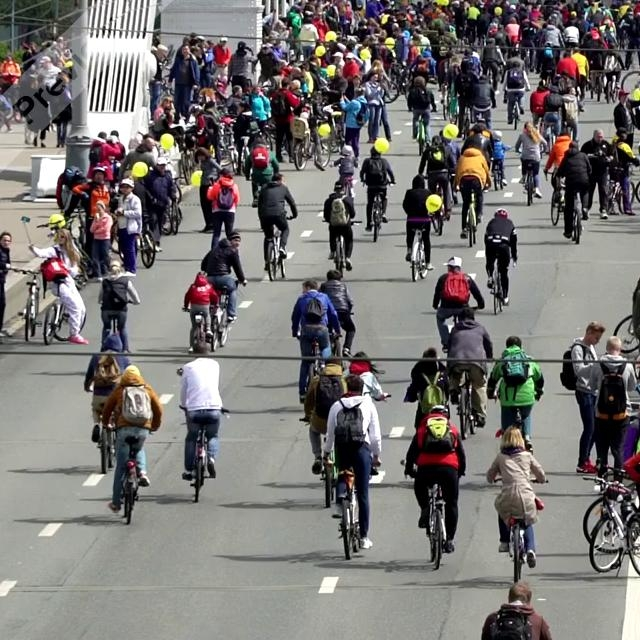bicycle: (487, 477, 549, 583), (581, 464, 639, 577), (401, 458, 452, 570), (179, 405, 229, 502), (331, 462, 379, 559), (42, 272, 87, 345), (298, 417, 334, 508), (209, 280, 245, 351), (117, 435, 145, 524), (11, 267, 44, 341), (321, 219, 361, 279), (265, 215, 296, 281), (486, 243, 512, 315), (363, 182, 393, 242), (405, 223, 431, 282), (455, 369, 476, 439), (458, 187, 482, 248), (137, 213, 156, 268), (546, 170, 565, 225), (519, 159, 541, 206), (569, 192, 584, 244), (505, 90, 524, 130)
